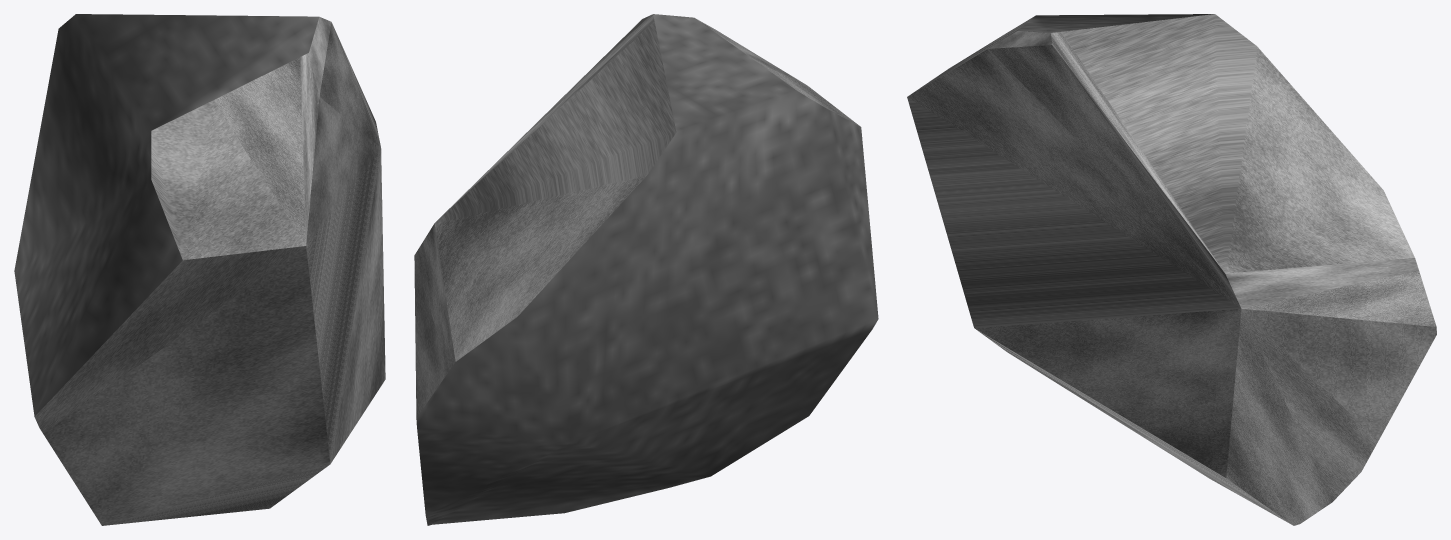
Rendered from body_cell_030.fbx.
3 renders of one model, left to right at view 1: azimuth 30°, elevation 25°; view 2: azimuth 150°, elevation 25°; view 3: azimuth 270°, elevation 25°, orthographic. The views are drawn at different scales.
Visible parts, largest first — view 1: body_cell.030; view 2: body_cell.030; view 3: body_cell.030.
Part boxes in pixels (box(x1,y1,x2,y2)): body_cell.030: box(14, 14, 385, 525); body_cell.030: box(414, 14, 878, 525); body_cell.030: box(907, 14, 1436, 525).
Size of the model in its own units: 48.29 by 56.21 by 60.71.
